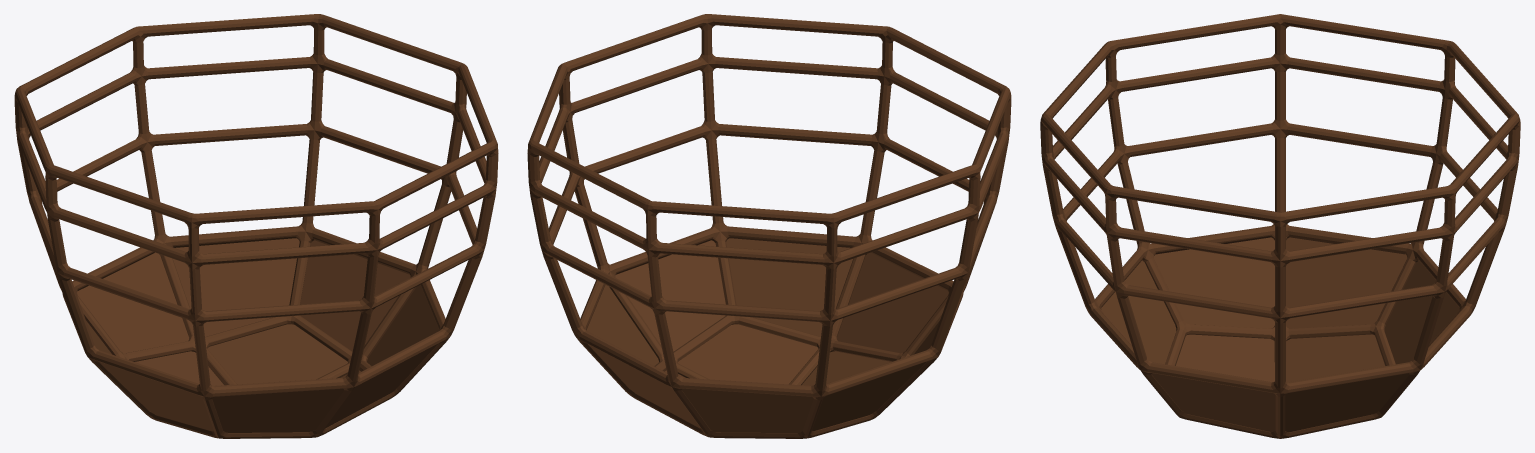
Rendered from Canasta.fbx.
The picture shows the model from 3 angles, left to right: view 1: azimuth 30°, elevation 25°; view 2: azimuth 150°, elevation 25°; view 3: azimuth 270°, elevation 25°; orthographic projection.
Parts seen in each view (by area): view 1: Cube.001; view 2: Cube.001; view 3: Cube.001.
Part boxes in pixels (box(x1,y1,x2,y2)): Cube.001: box(14, 14, 498, 438); Cube.001: box(527, 14, 1011, 438); Cube.001: box(1040, 14, 1520, 438).
Size of the model in its own units: 283 by 197 by 283.
